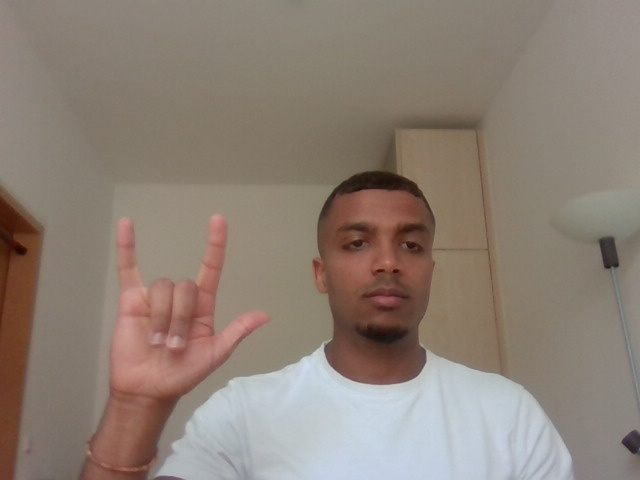absolutely: (97, 207, 282, 409)
